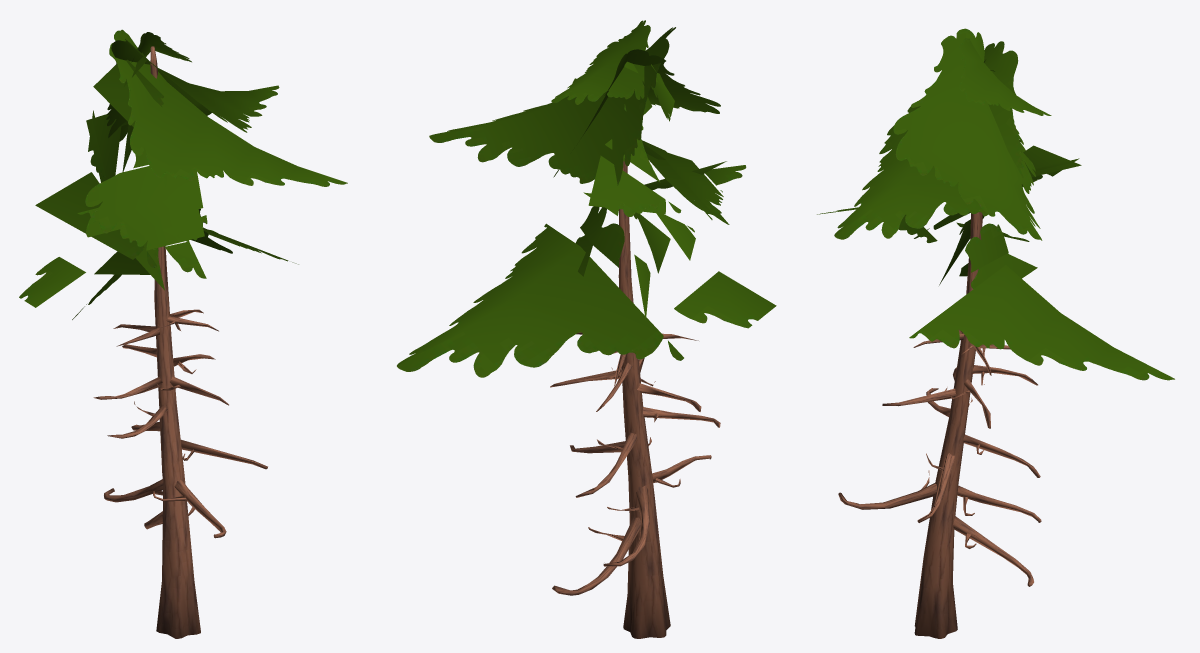
File: pine_free_model_b_b_lo.glb
The picture shows the model from 3 angles, left to right: view 1: azimuth 30°, elevation 25°; view 2: azimuth 150°, elevation 25°; view 3: azimuth 270°, elevation 25°; orthographic projection. The views are drawn at different scales.
Parts seen in each view (by area): view 1: Pine_3; view 2: Pine_3; view 3: Pine_3.
Part boxes in pixels (box(x1,y1,x2,y2)): Pine_3: box(19, 29, 347, 638); Pine_3: box(397, 20, 776, 638); Pine_3: box(817, 28, 1174, 638).
Bounding box in the file's own units: 3.89 × 7.6 × 4.42.
Materials: 2 (2 with a texture image).
